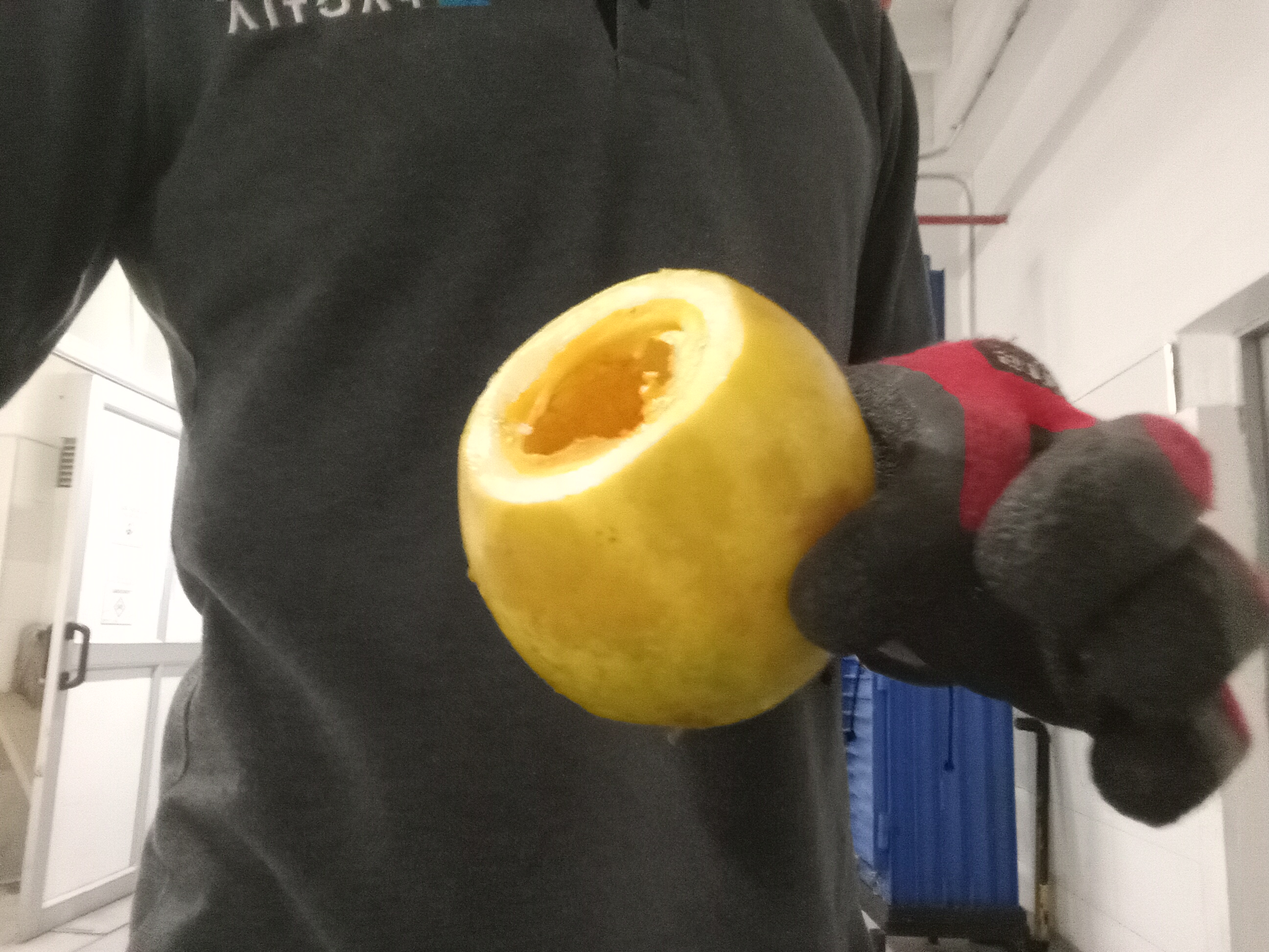Organico: (458, 270, 877, 734)
